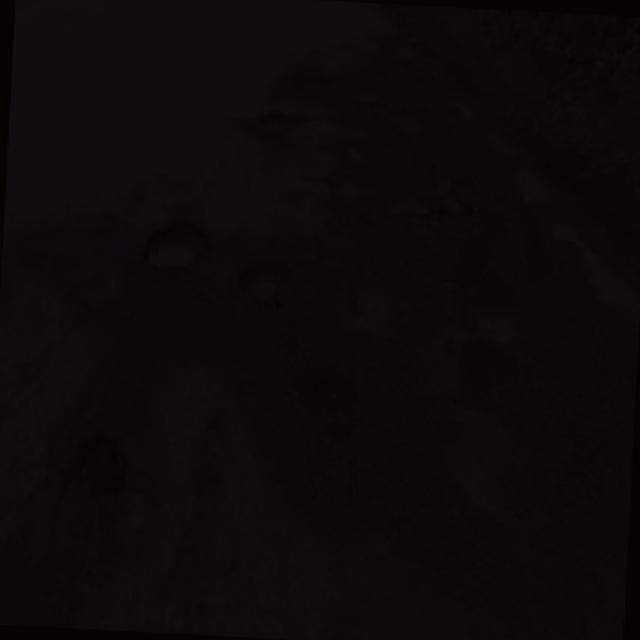Pothole: (327, 135, 475, 236), (436, 332, 530, 409), (54, 422, 137, 509), (128, 207, 215, 288), (289, 370, 354, 468), (227, 255, 297, 314), (255, 106, 301, 143), (292, 66, 332, 90)
